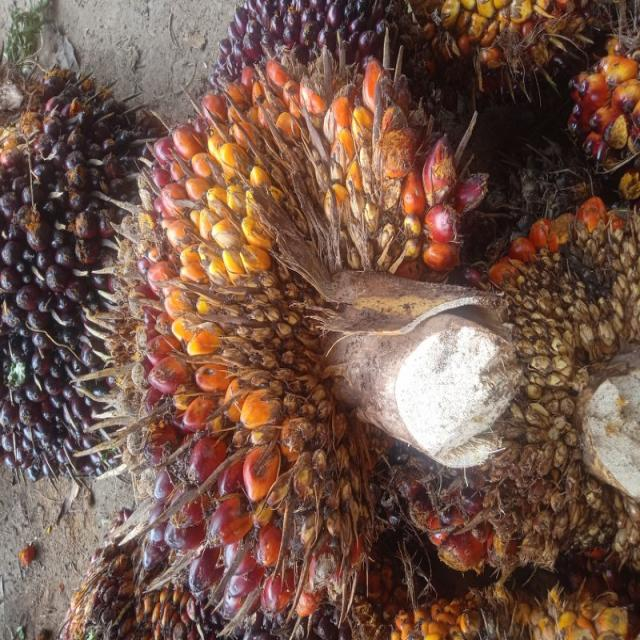fraksi 1: (107, 37, 514, 640)
